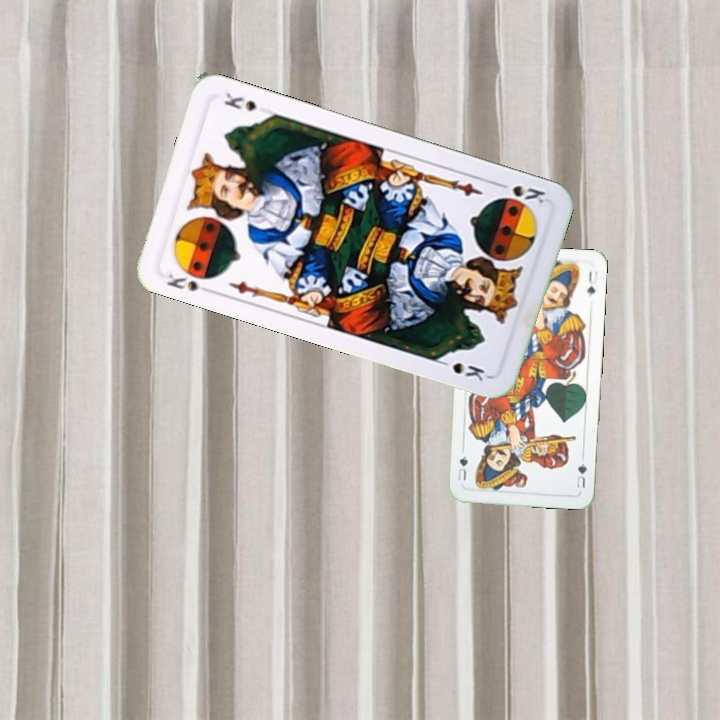GU: (572, 459, 589, 490)
SK: (492, 178, 548, 207), (162, 269, 216, 296)
